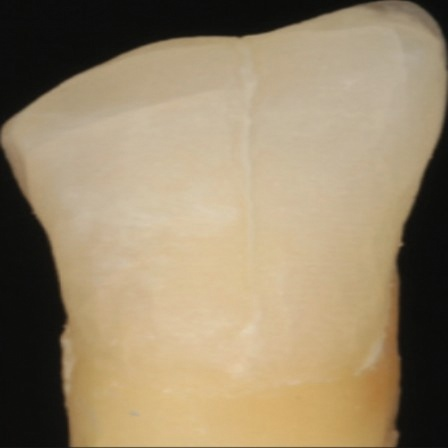coin_1: (69, 323, 89, 343)
coin_2: (26, 203, 46, 223)
coin_3: (396, 259, 416, 279)
coin_4: (431, 153, 448, 173)
